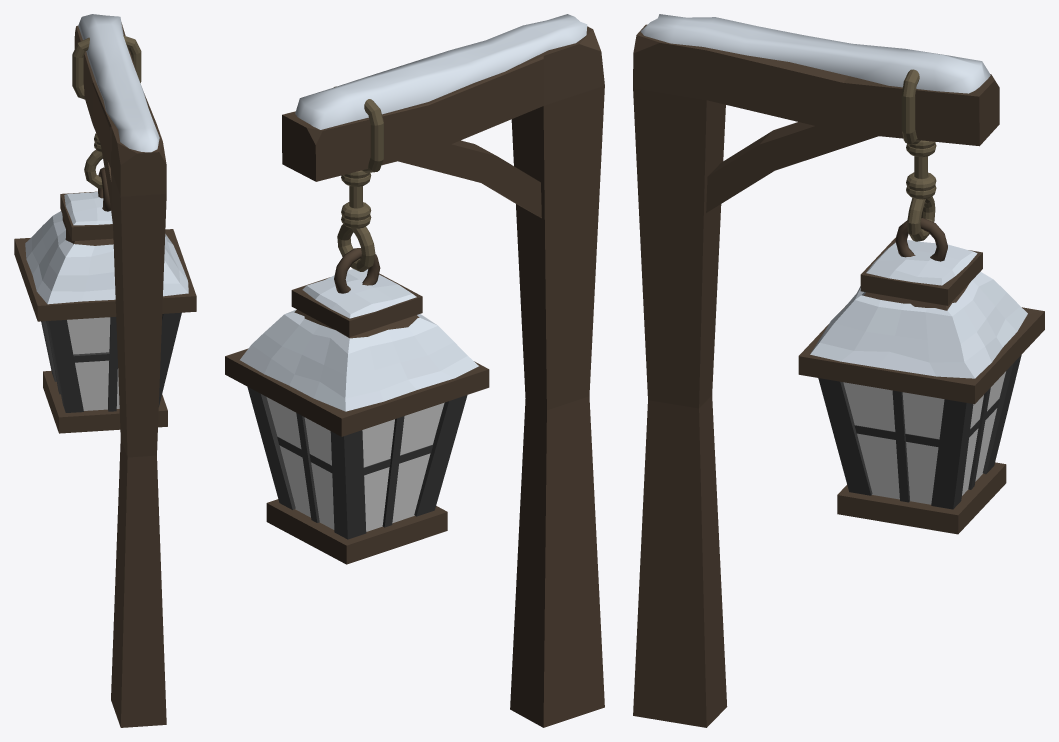
Rendered from Lantern.fbx.
3 views of the same model, side by side, from view 1: azimuth 30°, elevation 25°; view 2: azimuth 150°, elevation 25°; view 3: azimuth 270°, elevation 25° (orthographic). The views are drawn at different scales.
Visible parts, largest first — view 1: Plane.311, Plane.624; view 2: Plane.311, Plane.624; view 3: Plane.311, Plane.624.
Part boxes in pixels (x1=…): Plane.311: x1=14, y1=14, x2=196, y2=727; Plane.624: x1=67, y1=317, x2=119, y2=410; Plane.311: x1=225, y1=14, x2=604, y2=727; Plane.624: x1=266, y1=397, x2=444, y2=531; Plane.311: x1=633, y1=14, x2=1044, y2=727; Plane.624: x1=843, y1=371, x2=1005, y2=504.
Size of the model in its own units: 60.06 by 179 by 96.2.
